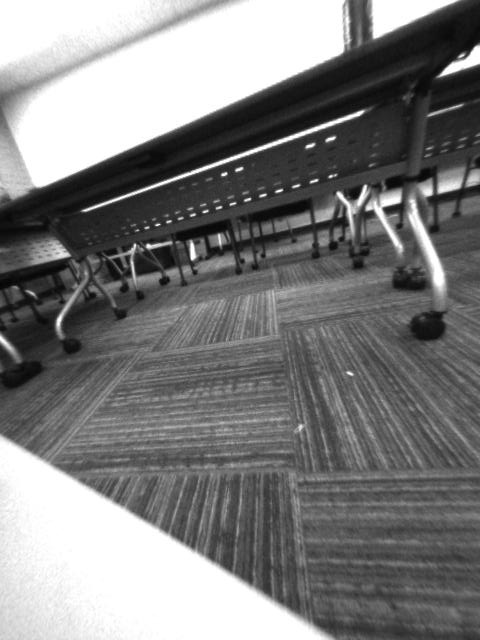can: (340, 1, 380, 58)
